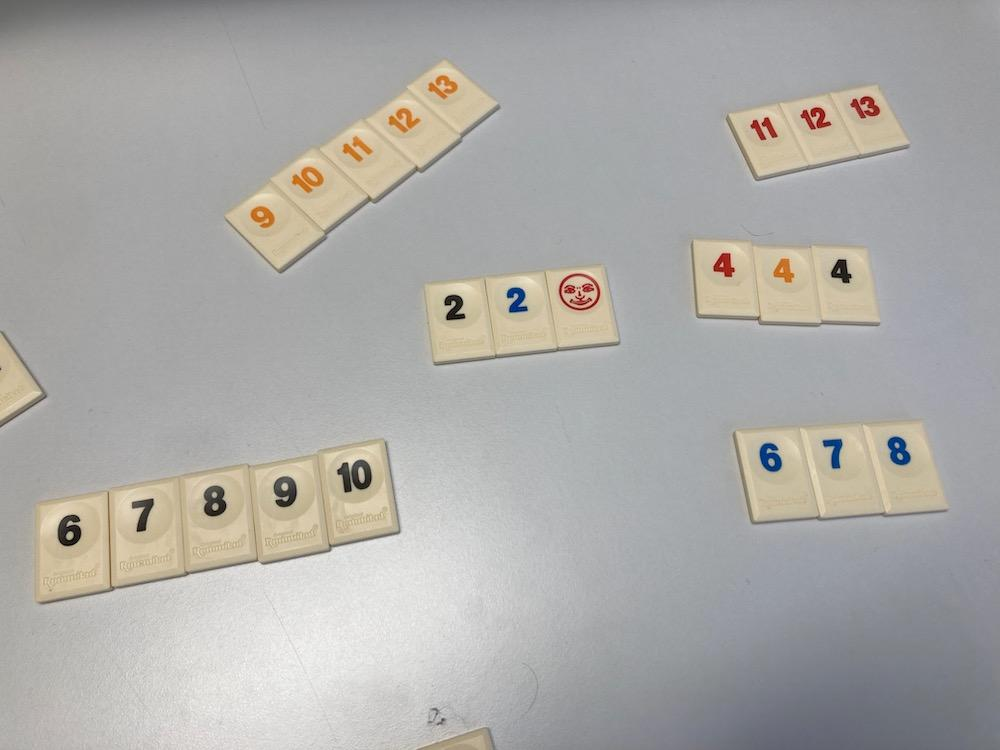black_10: (319, 439, 400, 545)
black_2: (424, 277, 496, 362)
black_4: (812, 246, 881, 324)
black_6: (35, 493, 111, 602)
black_7: (111, 479, 185, 586)
black_8: (180, 465, 255, 571)
black_9: (250, 455, 330, 562)
blue_2: (484, 271, 556, 357)
blue_6: (734, 429, 818, 523)
blue_7: (801, 425, 883, 517)
blue_8: (863, 420, 947, 516)
joker: (545, 266, 618, 350)
orange_10: (271, 148, 367, 230)
orange_11: (320, 119, 414, 201)
orange_12: (368, 92, 461, 170)
orange_13: (408, 59, 498, 135)
orange_4: (755, 246, 822, 324)
orange_9: (225, 184, 324, 271)
red_11: (727, 104, 809, 180)
red_12: (781, 94, 859, 166)
red_13: (830, 84, 910, 156)
red_4: (693, 241, 760, 318)
